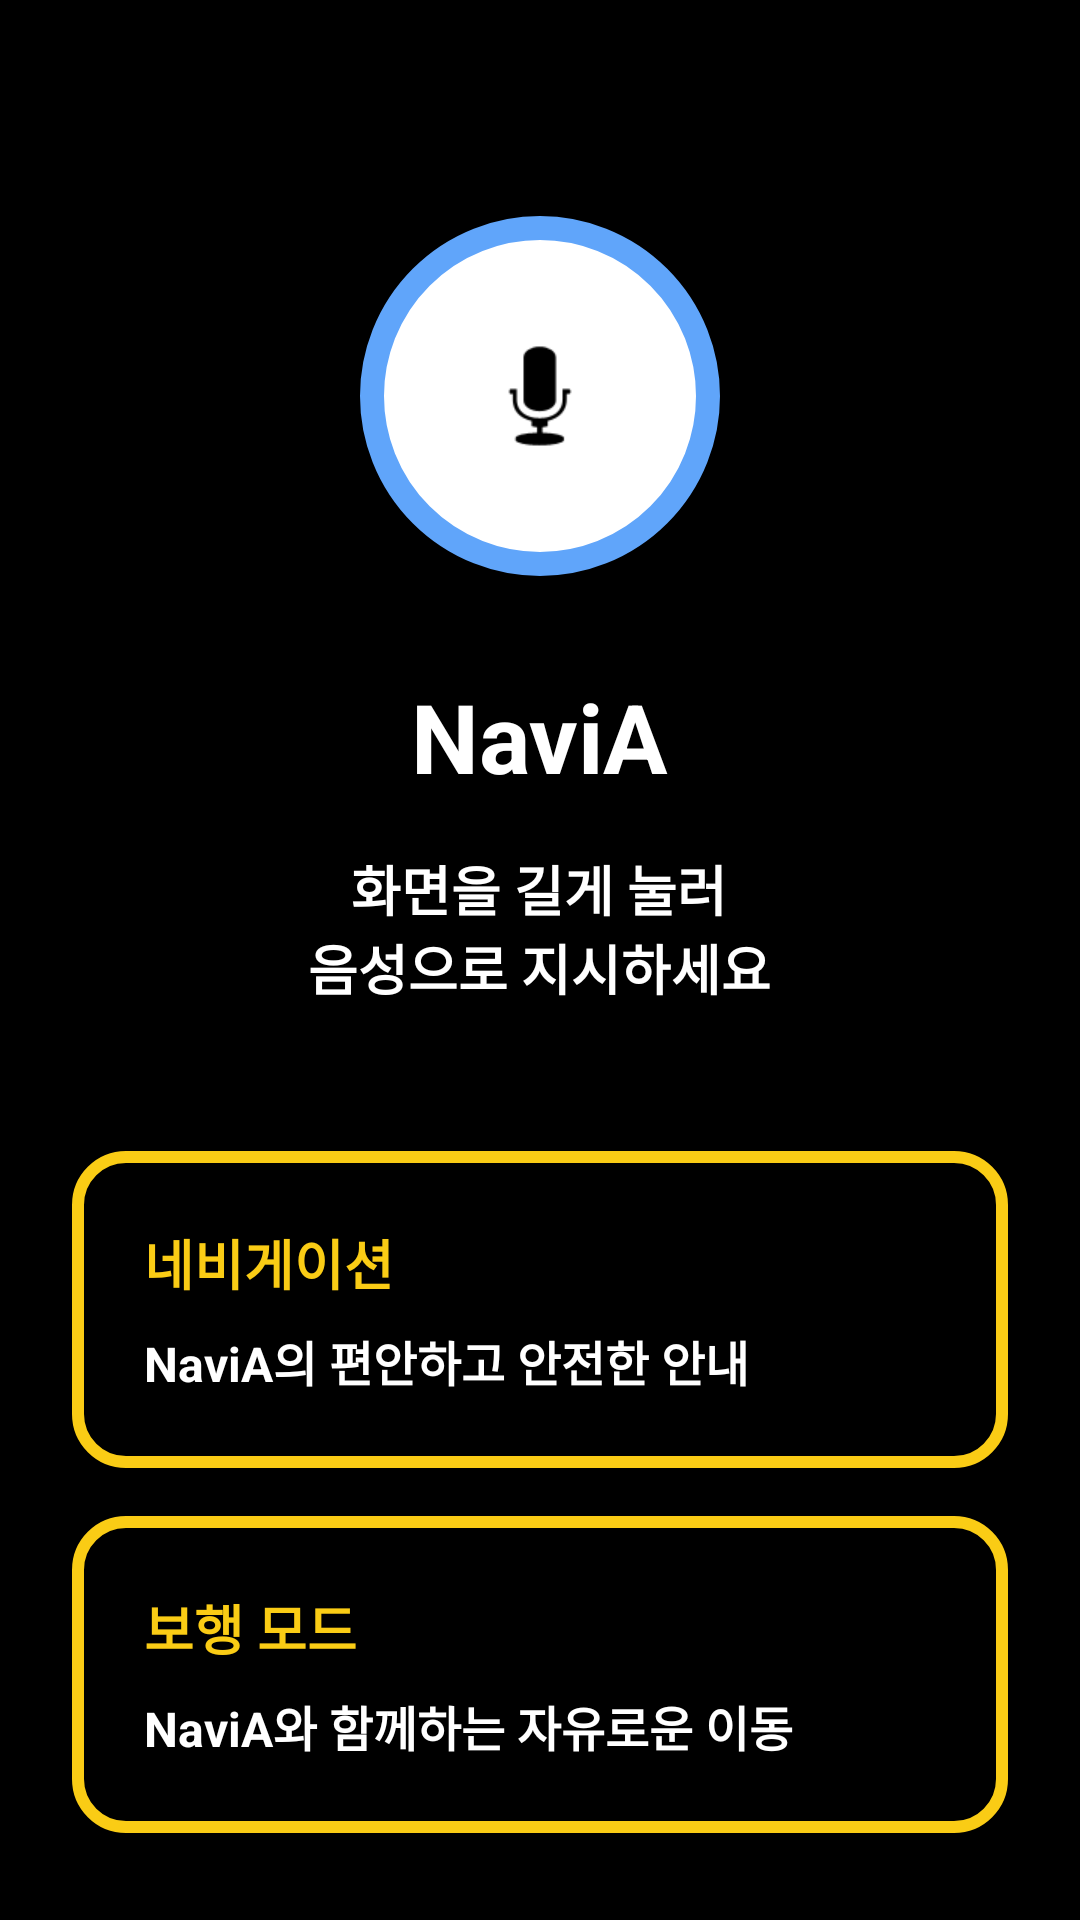

Locate icon controls on the screen. Image size 1080 x 1920, boxes as rect(x1, y1, x2, y2).
speak now: rect(508, 346, 572, 446)
